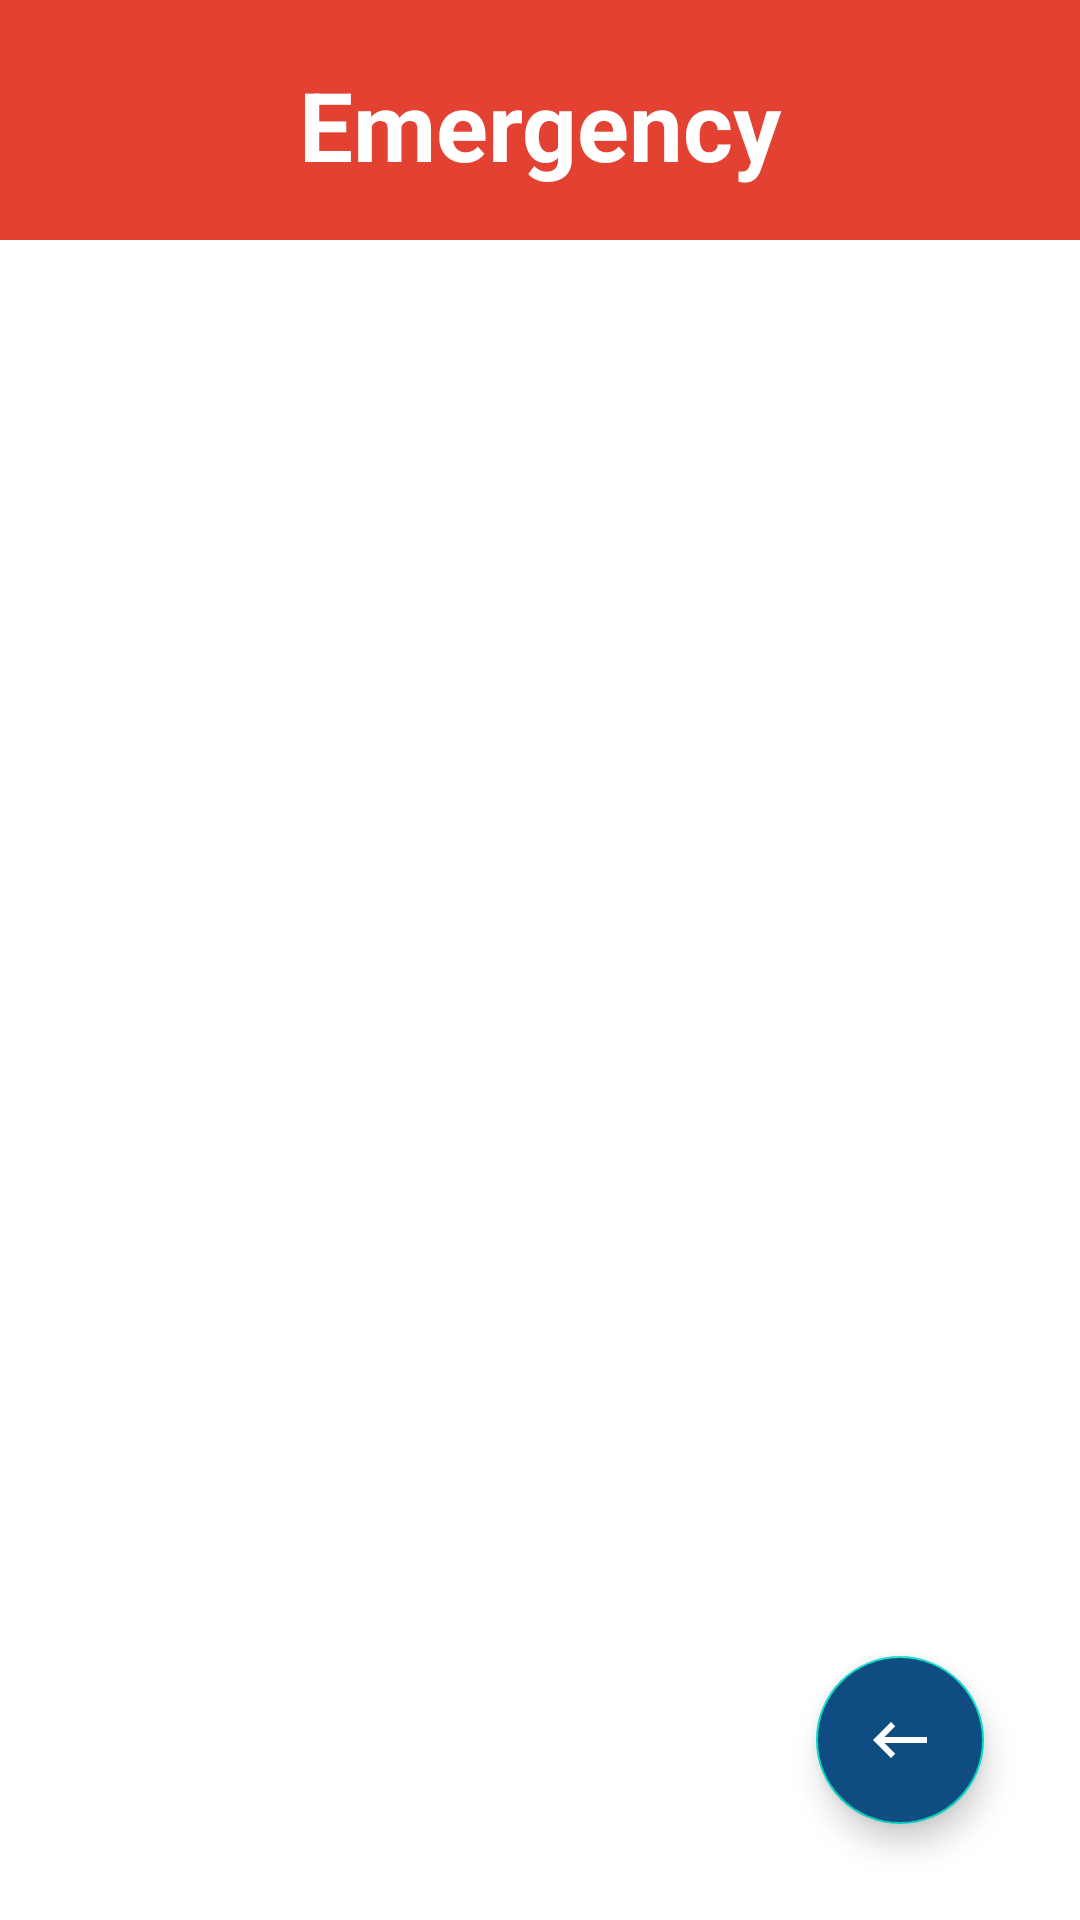

Where icons sit on this 1080 × 1920 app screen, as (x1=x1, y1=y1, x2=x2, y2=y2):
back: (x1=816, y1=1656, x2=984, y2=1824)
